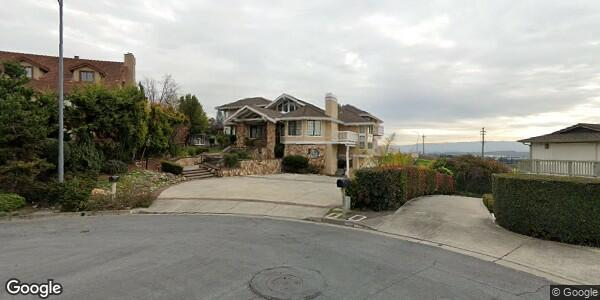Steel_Pole: (54, 1, 69, 186)
Wood_Pole: (478, 125, 488, 159)
